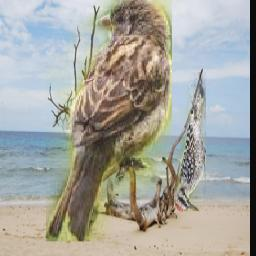Sparrow: (46, 0, 172, 242)
Woodpecker: (174, 72, 206, 212)
